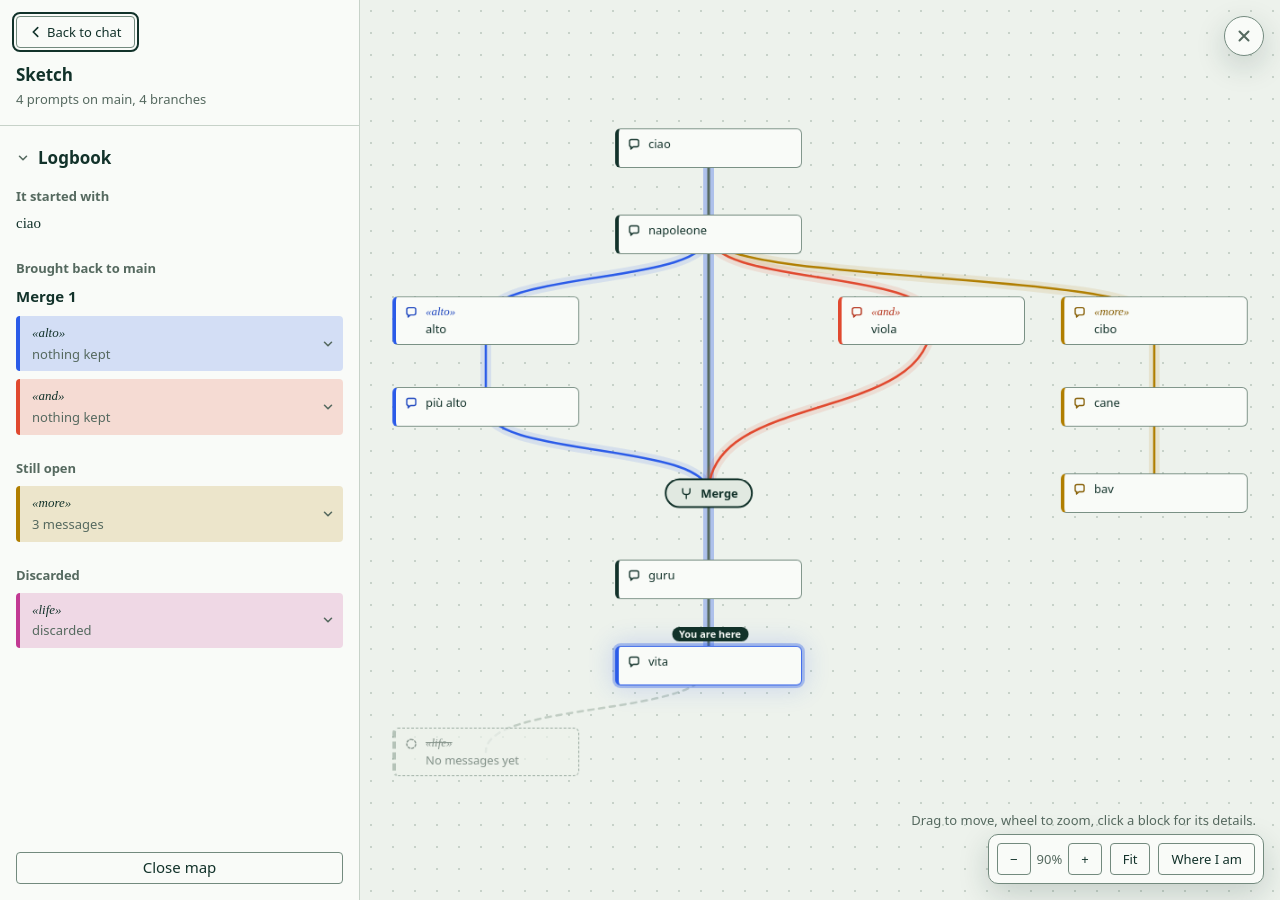
ConversationMap › lists the branches that start from an answer on main
Click the button "napoleone". click: {"x": 709, "y": 234}
box: [615,215,802,254]
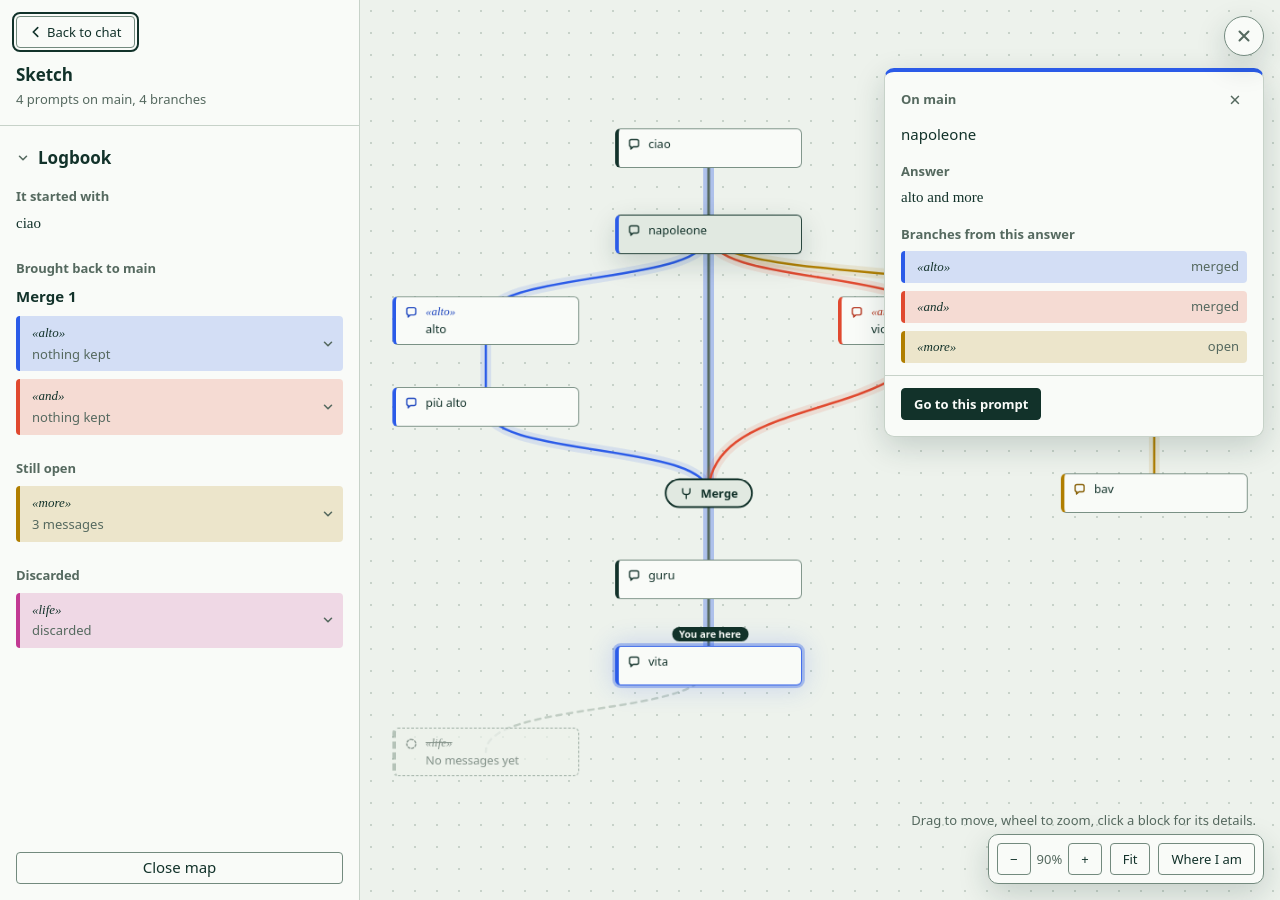
Result: the element named "Selected block" shows "Branches from this answer" at [901,225,1075,243]
Result: the number of buttons with class "node-branch-chip" is 3 at [901,251,1247,283]; [901,291,1247,323]; [901,331,1247,363]
